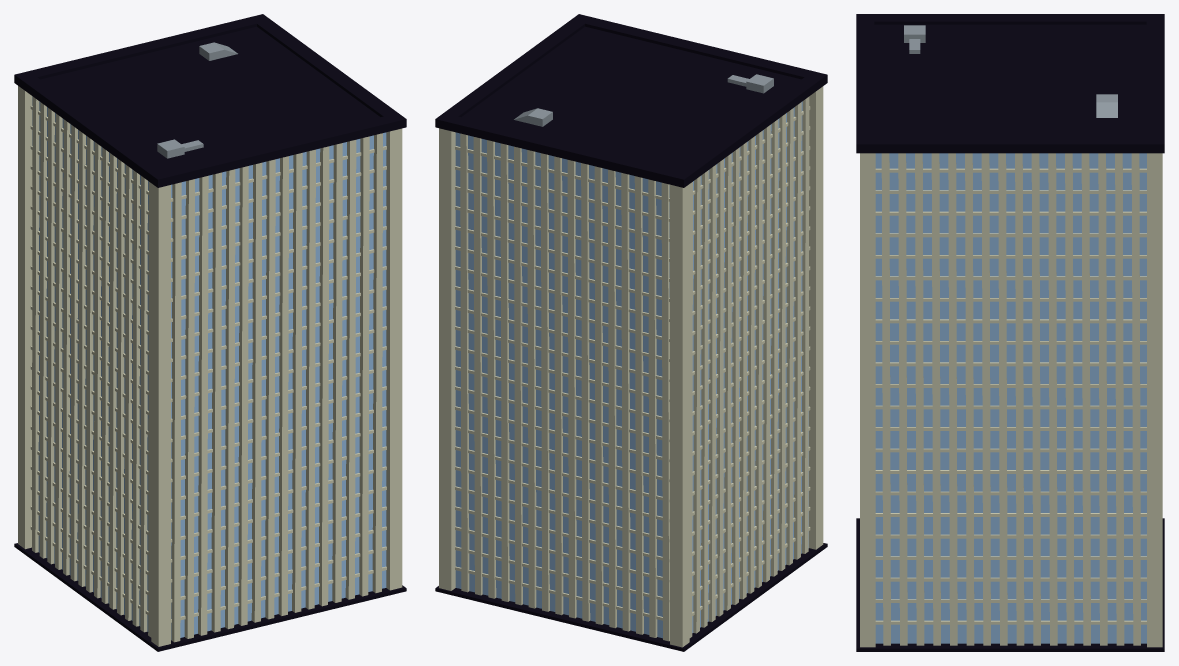
File: Tower3.glb
The picture shows the model from 3 angles, left to right: view 1: azimuth 30°, elevation 25°; view 2: azimuth 150°, elevation 25°; view 3: azimuth 270°, elevation 25°; orthographic projection. The views are drawn at different scales.
Visible parts, largest first — view 1: wall1, wall3, Glass, roof, floors, cornerstone1, cornerstone3, cornerstone4, base; view 2: wall2, wall3, Glass, roof, floors, cornerstone4, cornerstone2, cornerstone1, base; view 3: Glass, wall4, roof, floors, cornerstone2, cornerstone3, base, top.
Part boxes in pixels (x1,y1,x2,y2): wall1: [171, 133, 382, 642]; wall3: [32, 96, 151, 637]; Glass: [32, 96, 386, 639]; roof: [14, 14, 406, 187]; floors: [30, 106, 386, 622]; cornerstone1: [151, 183, 170, 646]; cornerstone3: [386, 128, 402, 590]; cornerstone4: [18, 86, 32, 549]; base: [14, 543, 406, 651]; wall2: [460, 133, 669, 641]; wall3: [689, 96, 809, 637]; Glass: [455, 101, 808, 638]; roof: [435, 14, 827, 187]; floors: [455, 106, 810, 620]; cornerstone4: [670, 184, 689, 647]; cornerstone2: [439, 128, 455, 590]; cornerstone1: [809, 86, 823, 549]; base: [435, 543, 827, 651]; Glass: [875, 153, 1146, 643]; wall4: [881, 153, 1140, 645]; roof: [856, 14, 1164, 153]; floors: [875, 168, 1146, 624]; cornerstone2: [1147, 153, 1162, 647]; cornerstone3: [860, 153, 875, 647]; base: [856, 518, 1164, 651]; top: [1096, 94, 1117, 117].
Bounding box in the file's own units: 20 × 36.66 × 20.
